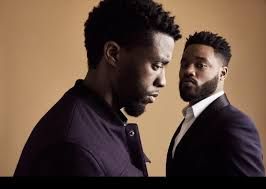black_male: (177, 33, 239, 99)
